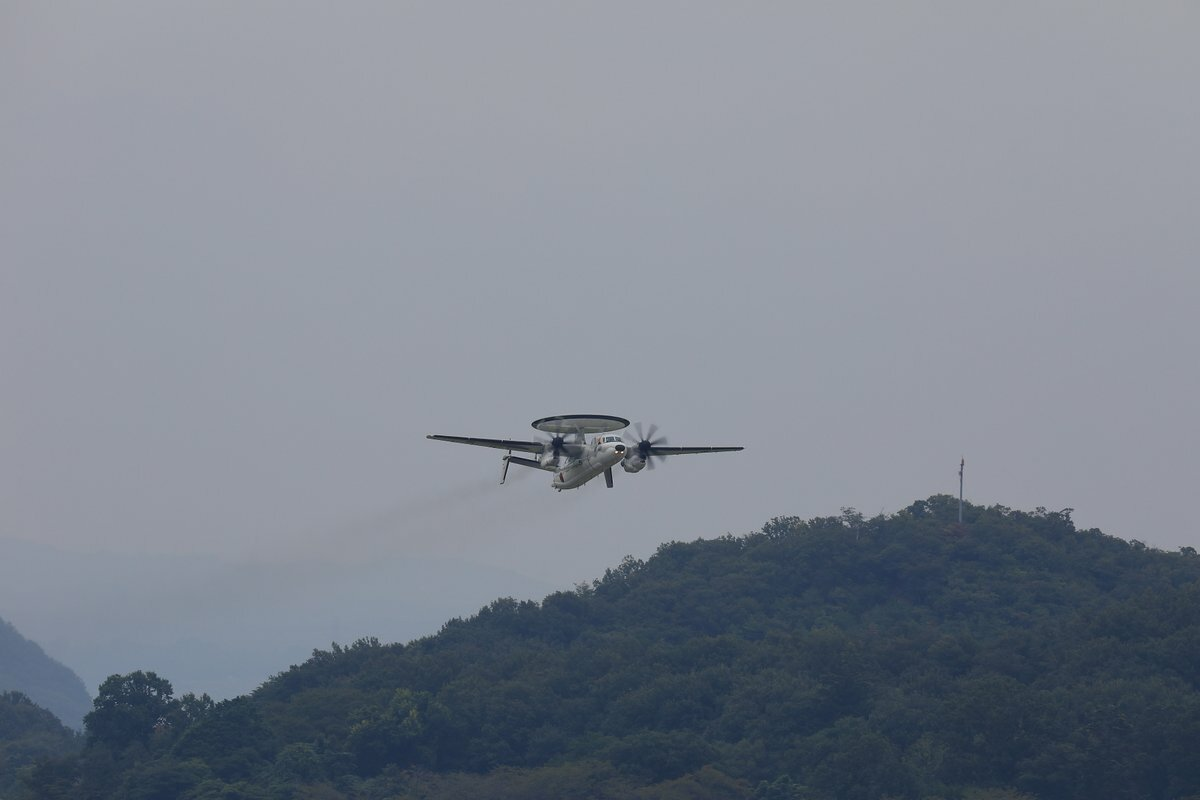E2: (425, 414, 745, 493)
